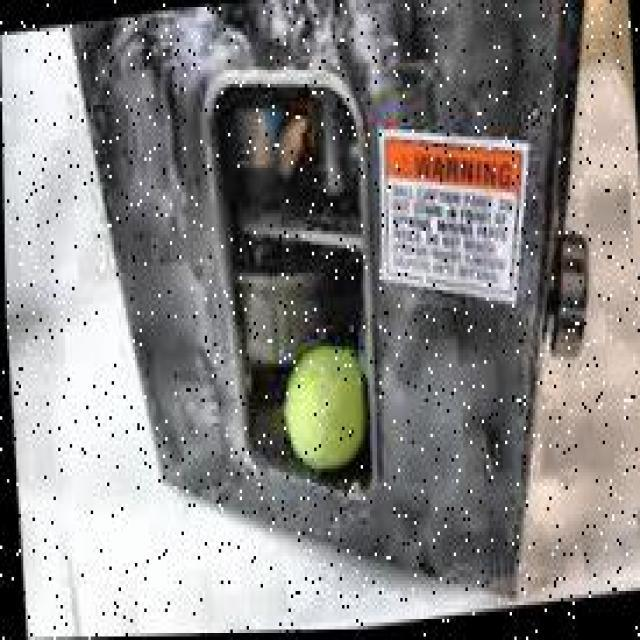tennis-ball: (276, 327, 372, 481)
